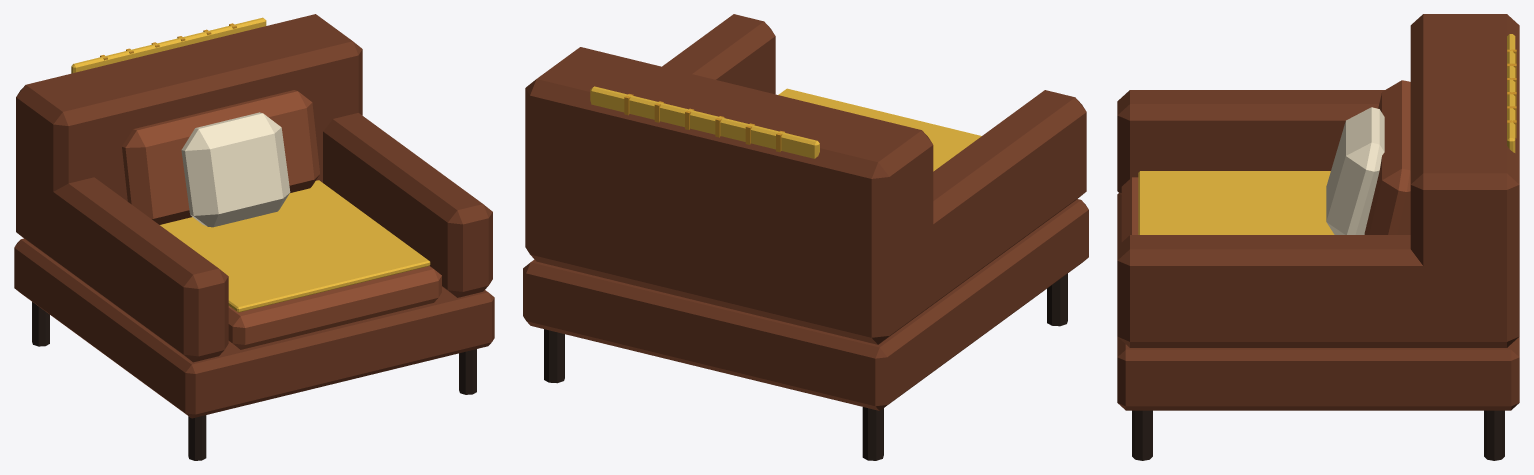
File: armchair.fbx
The picture shows the model from 3 angles, left to right: view 1: azimuth 30°, elevation 25°; view 2: azimuth 150°, elevation 25°; view 3: azimuth 270°, elevation 25°; orthographic projection. The views are drawn at different scales.
Visible parts, largest first — view 1: armchair; view 2: armchair; view 3: armchair.
Boxes of the visible parts, x1=… form: armchair: x1=14, y1=14, x2=494, y2=460; armchair: x1=523, y1=14, x2=1088, y2=460; armchair: x1=1117, y1=14, x2=1519, y2=460.
Bounding box in the file's own units: 0.96 × 0.78 × 0.96.
